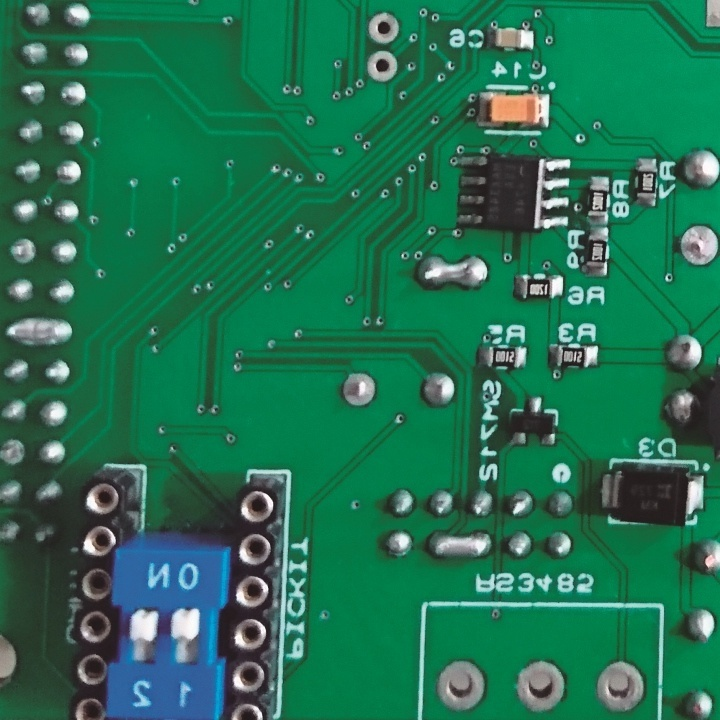F: (590, 651, 646, 718), (511, 655, 572, 716), (436, 658, 487, 718), (676, 223, 720, 270), (338, 372, 382, 412), (363, 47, 404, 86), (362, 10, 401, 46), (55, 80, 96, 111), (5, 234, 40, 269), (53, 158, 87, 189), (1, 435, 30, 471)
P: (413, 249, 493, 292), (1, 315, 76, 350), (425, 526, 493, 563)
